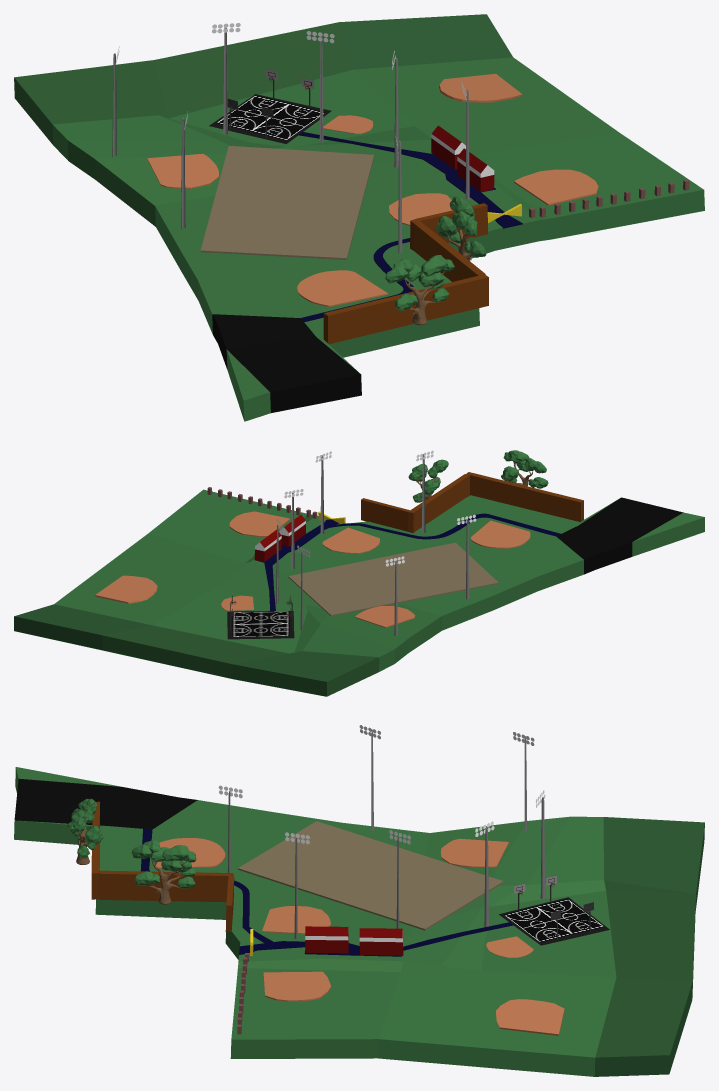
File: intcapefield.glb
3 renders of one model, top to bottom at view 1: azimuth 30°, elevation 25°; view 2: azimuth 150°, elevation 25°; view 3: azimuth 270°, elevation 25°, orthographic. The views are drawn at different scales.
Parts seen in each view (by area): view 1: Cape Field, capefield_lights, tree_Cube.002, tree_Cube.001; view 2: Cape Field, capefield_lights, tree_Cube.002, tree_Cube.001; view 3: Cape Field, capefield_lights, tree_Cube.001, tree_Cube.002, uploads_files_3533741_basketball.
Boxes of the visible parts, bbox=[...] form: Cape Field: bbox=[14, 14, 704, 421]; capefield_lights: bbox=[112, 23, 469, 252]; tree_Cube.002: bbox=[385, 255, 454, 325]; tree_Cube.001: bbox=[435, 196, 486, 260]; Cape Field: bbox=[14, 472, 704, 696]; capefield_lights: bbox=[276, 450, 476, 635]; tree_Cube.002: bbox=[501, 450, 548, 488]; tree_Cube.001: bbox=[408, 459, 448, 502]; Cape Field: bbox=[14, 767, 704, 1076]; capefield_lights: bbox=[218, 725, 545, 939]; tree_Cube.001: bbox=[131, 840, 196, 904]; tree_Cube.002: bbox=[67, 798, 103, 864]; uploads_files_3533741_basketball: bbox=[514, 875, 593, 939].
Bounding box in the file's own units: 0.3798 × 0.0981 × 0.4136.
Materials: 19 (1 with a texture image).
